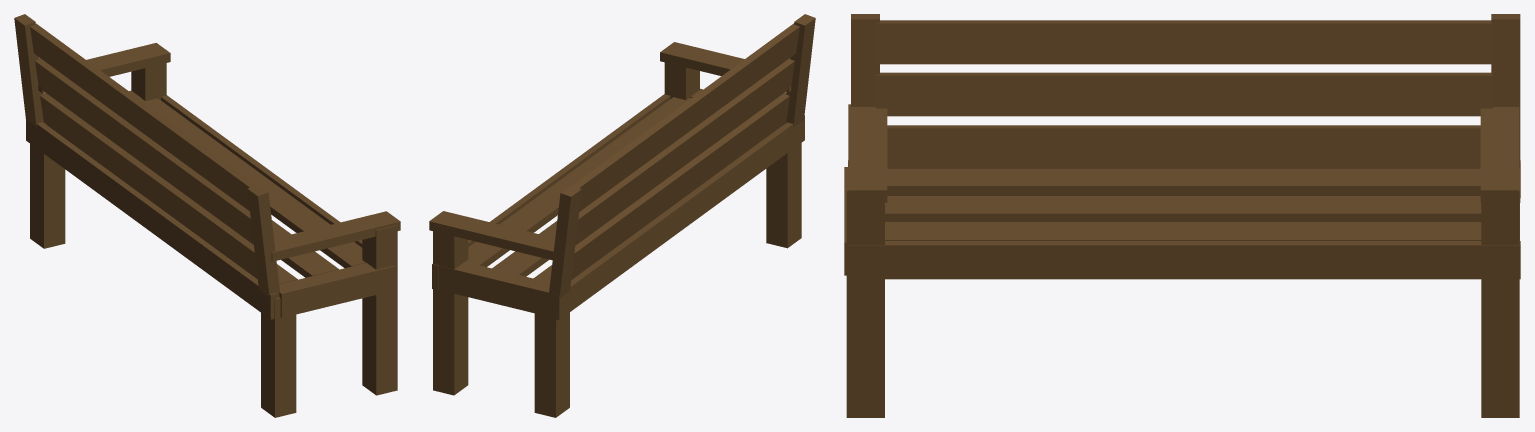
The model's file is Bench.fbx.
3 views of the same model, side by side, from view 1: azimuth 30°, elevation 25°; view 2: azimuth 150°, elevation 25°; view 3: azimuth 270°, elevation 25° (orthographic). The views are drawn at different scales.
Parts seen in each view (by area): view 1: Cube.011; view 2: Cube.011; view 3: Cube.011.
Part boxes in pixels (bbox=[...]): Cube.011: bbox=[14, 14, 400, 417]; Cube.011: bbox=[429, 14, 815, 417]; Cube.011: bbox=[844, 14, 1520, 417].
Bounding box in the file's own units: 756 × 251 × 386.
